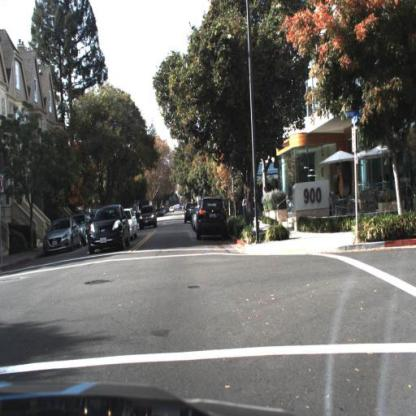car: (88, 206, 128, 253), (195, 197, 228, 246), (42, 218, 80, 253), (76, 211, 92, 251), (139, 205, 161, 233), (142, 203, 158, 233), (127, 206, 139, 240), (182, 201, 194, 228), (185, 205, 195, 226)
